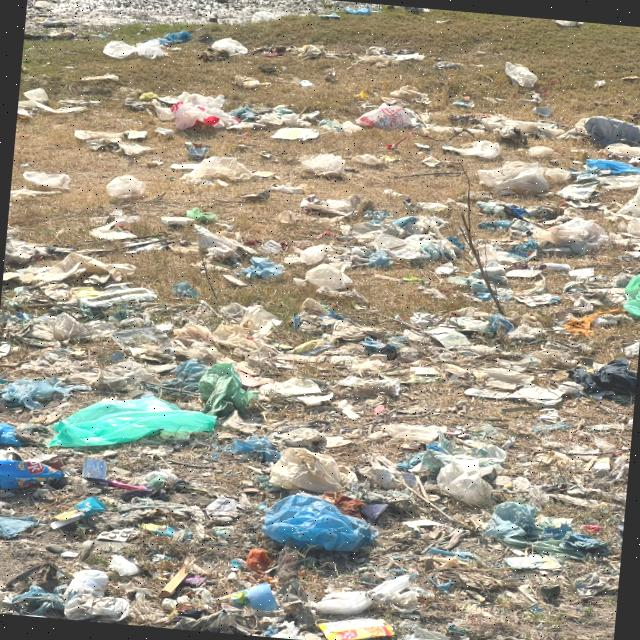garbage: (0, 247, 637, 640), (118, 80, 640, 323)
